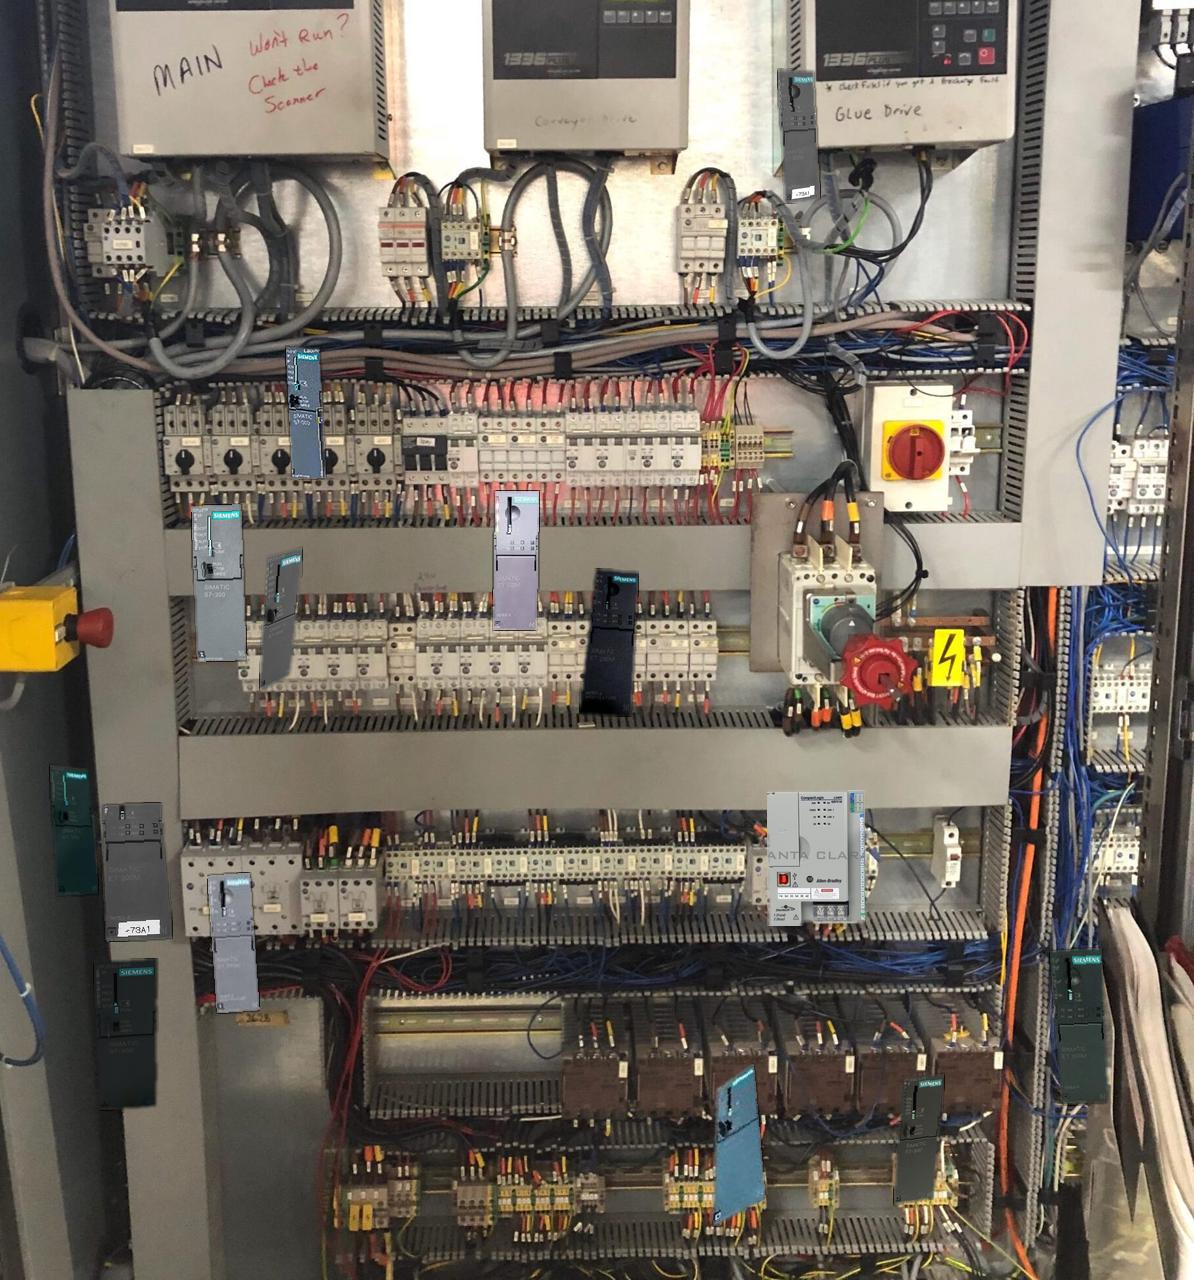AllenBradley: (766, 790, 864, 926)
Siemens: (94, 958, 156, 1109), (191, 504, 246, 661), (713, 1063, 765, 1225), (894, 1074, 943, 1204), (50, 765, 97, 894), (260, 547, 301, 689), (286, 347, 324, 478)
